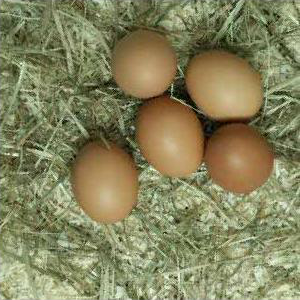egg: (185, 50, 263, 123), (136, 96, 204, 179), (72, 139, 138, 223), (204, 124, 274, 194), (112, 31, 176, 99)
